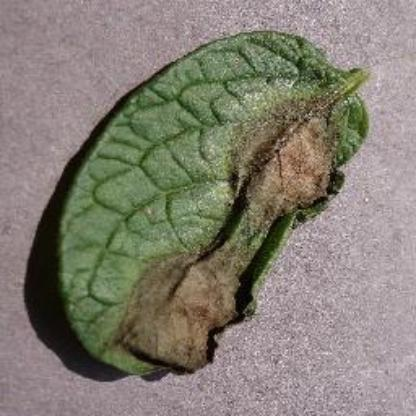Late-Blight: (29, 23, 390, 390)
